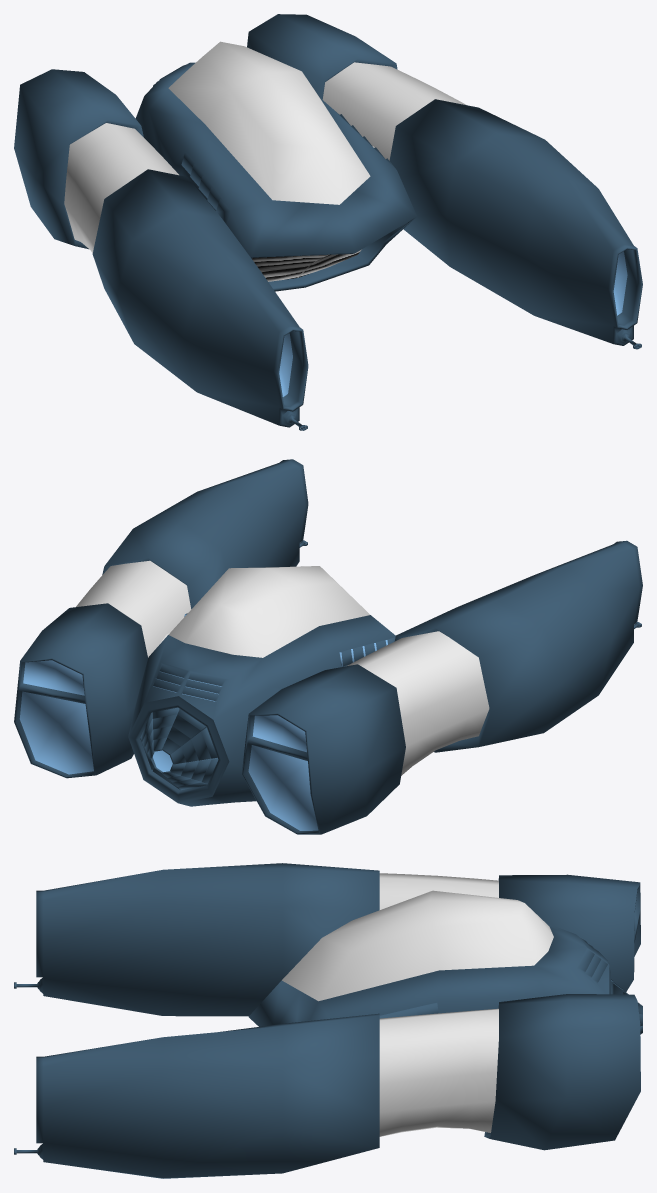
The model's file is Spaceship 1.fbx.
3 renders of one model, top to bottom at view 1: azimuth 30°, elevation 25°; view 2: azimuth 150°, elevation 25°; view 3: azimuth 270°, elevation 25°, orthographic.
Visible parts, largest first — view 1: Engine_front_R.001, Engine_front_R, Cockpit, Window, Engine_back_R, Engine_middle_R, Engine_middle_R.001, Engine_back_R.001; view 2: Engine_front_R, Engine_back_R, Engine_back_R.001, Engine_front_R.001, Cockpit, Window, Engine_middle_R, Cockpit_engine, Engine_middle_R.001; view 3: Engine_front_R.001, Engine_front_R, Engine_back_R.001, Window, Engine_middle_R.001, Cockpit, Engine_back_R, Engine_middle_R.
Boxes of the visible parts, x1,y1,x2,y2 form: Engine_front_R.001: (389,99,642,349); Engine_front_R: (92,169,308,430); Cockpit: (135,62,417,291); Window: (168,41,370,204); Engine_back_R: (14,69,143,249); Engine_middle_R: (64,123,178,252); Engine_middle_R.001: (322,62,466,160); Engine_back_R.001: (247,14,397,99); Engine_front_R: (394,540,642,752); Engine_back_R: (241,664,405,834); Engine_back_R.001: (14,603,147,778); Engine_front_R.001: (102,459,308,608); Cockpit: (128,613,395,806); Window: (168,566,369,657); Engine_middle_R: (346,631,489,775); Cockpit_engine: (128,696,229,803); Engine_middle_R.001: (76,560,191,657); Engine_front_R.001: (14,1013,379,1178); Engine_front_R: (14,863,379,1016); Engine_back_R.001: (484,994,640,1150); Window: (282,890,553,1001); Engine_middle_R.001: (379,1008,498,1136); Cockpit: (248,923,609,1026); Engine_back_R: (498,874,640,991); Engine_middle_R: (379,873,498,909).
Size of the model in its own units: 341 by 149 by 410.
